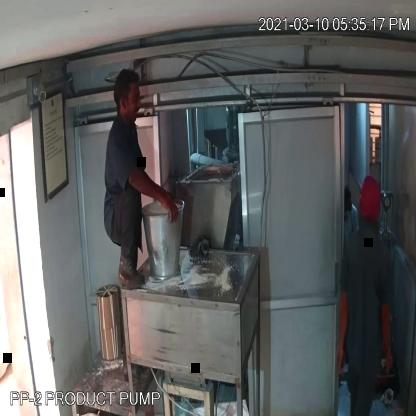no_glove: (126, 159, 186, 240), (326, 285, 355, 382)
